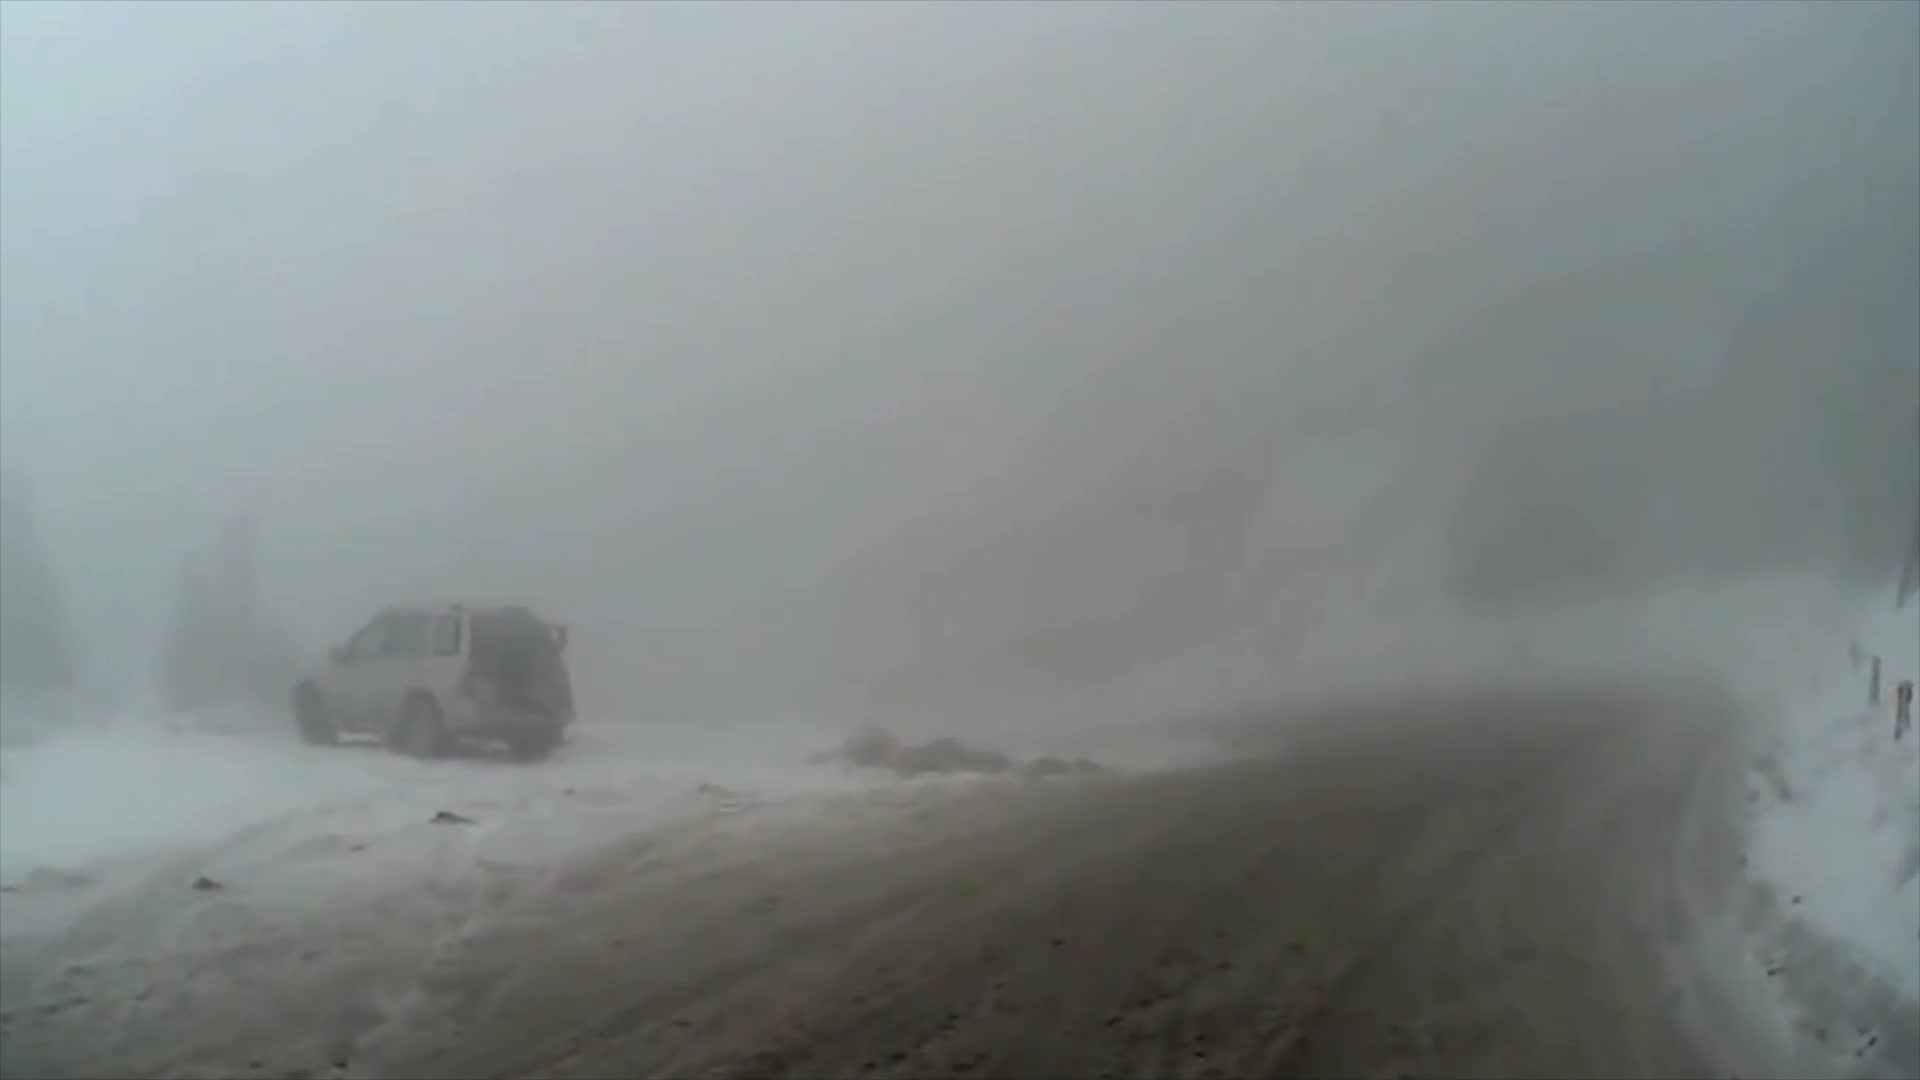vehicle: (284, 596, 568, 767)
